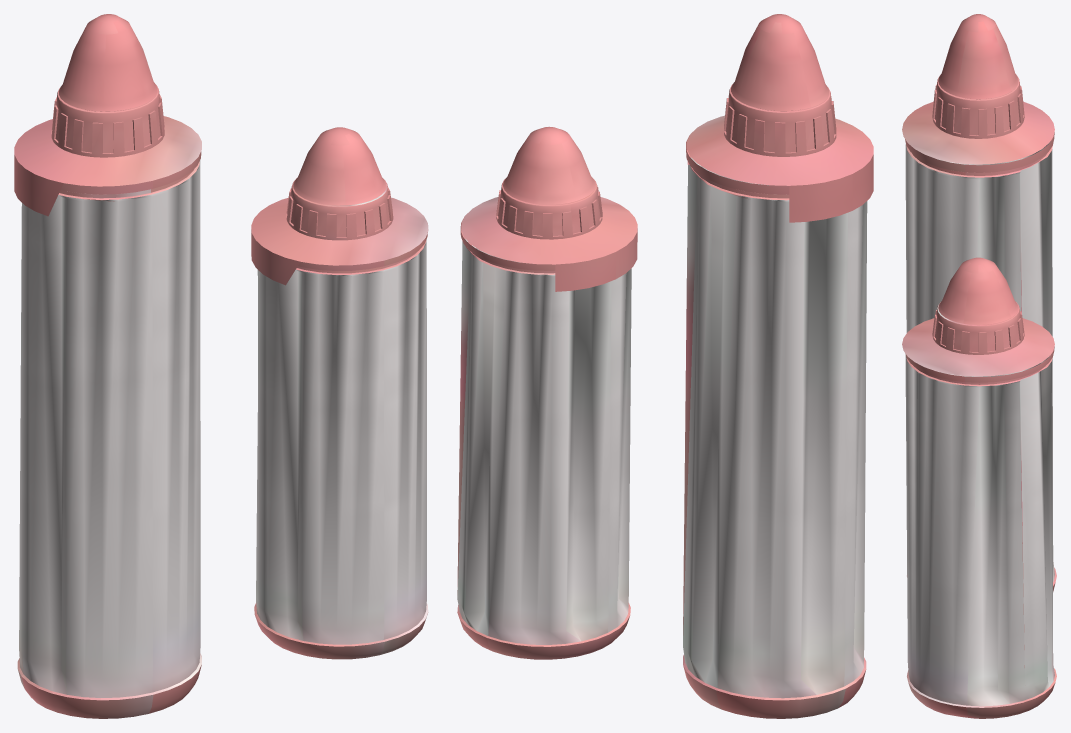
Rendered from goat pacifier.fbx.
3 renders of one model, left to right at view 1: azimuth 30°, elevation 25°; view 2: azimuth 150°, elevation 25°; view 3: azimuth 270°, elevation 25°, orthographic. The views are drawn at different scales.
Parts seen in each view (by area): view 1: goat pacifier, goat pacifier2; view 2: goat pacifier, goat pacifier2; view 3: goat pacifier2, goat pacifier.
Boxes of the visible parts, bbox=[...] form: goat pacifier: bbox=[14, 14, 201, 718]; goat pacifier2: bbox=[251, 127, 428, 659]; goat pacifier: bbox=[683, 14, 873, 718]; goat pacifier2: bbox=[457, 126, 637, 659]; goat pacifier2: bbox=[902, 257, 1056, 718]; goat pacifier: bbox=[902, 14, 1056, 591].
Size of the model in its own units: 1049 by 1717 by 415.
